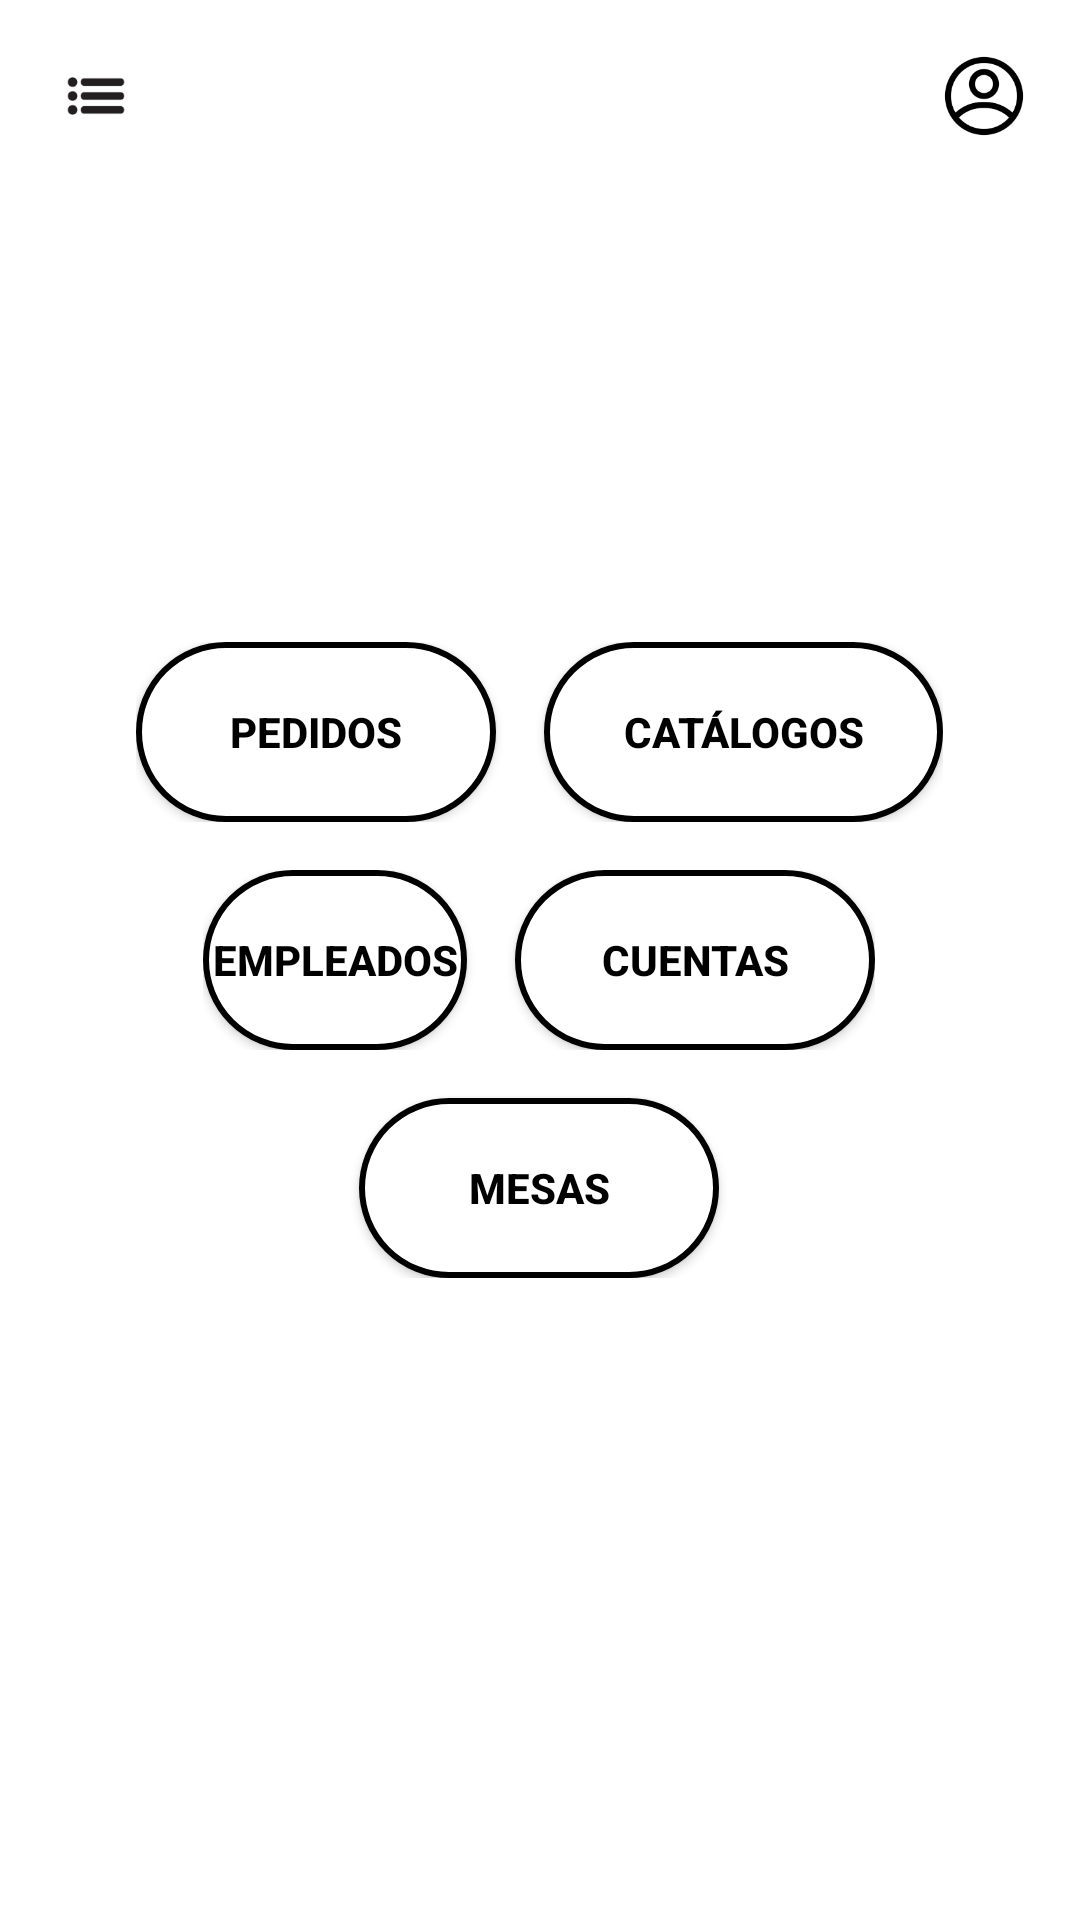

Screen size 1080 × 1920. Icon name, then its box in pixels as (x1, y1, x2, y2):
Menú: (67, 77, 125, 115)
Perfil: (945, 57, 1023, 135)
